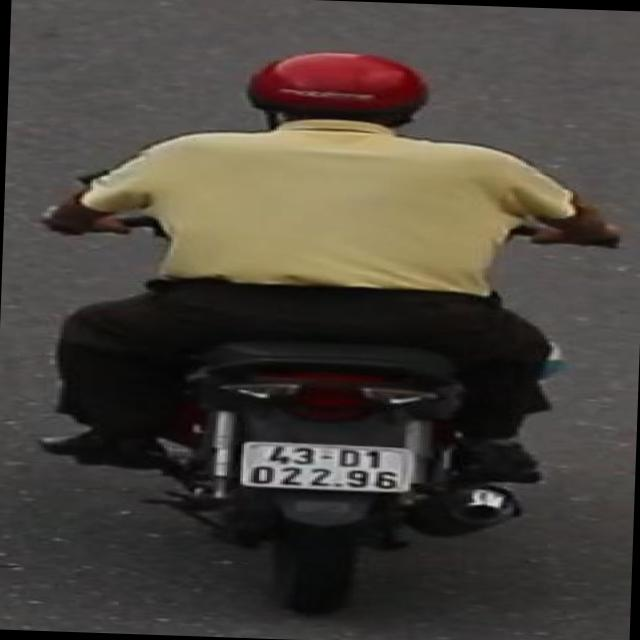LP: (229, 435, 422, 505)
helmet: (240, 42, 438, 125)
